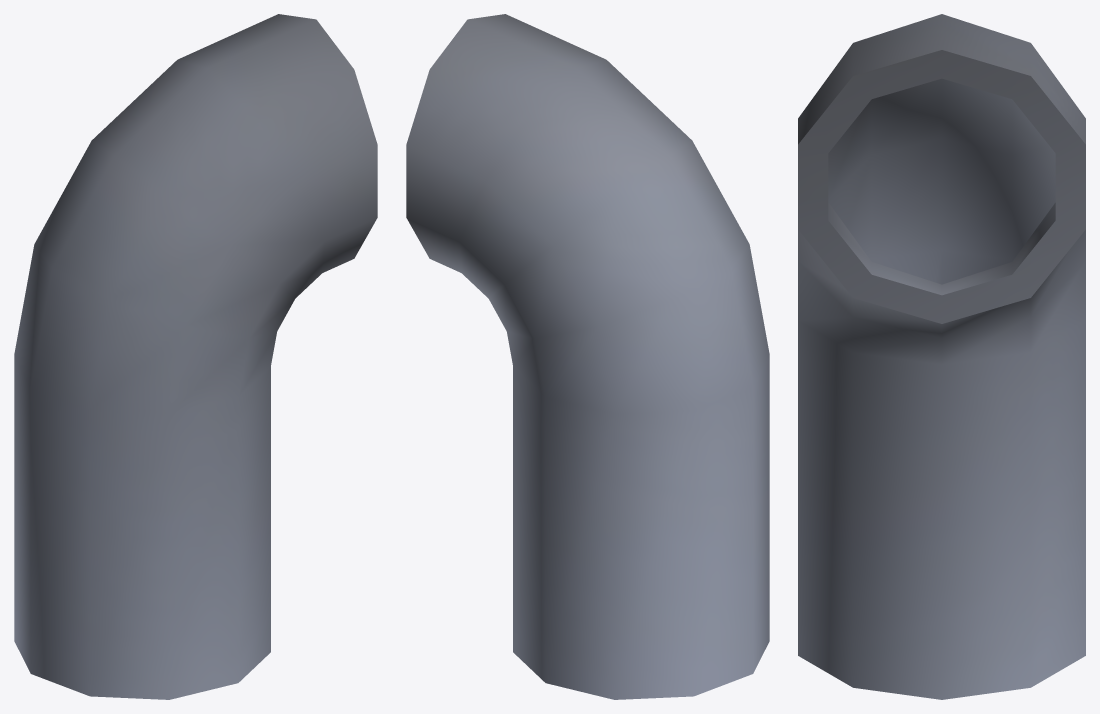
File: POL0110020.fbx
3 renders of one model, left to right at view 1: azimuth 30°, elevation 25°; view 2: azimuth 150°, elevation 25°; view 3: azimuth 270°, elevation 25°, orthographic. The views are drawn at different scales.
Parts seen in each view (by area): view 1: smPOL0110020; view 2: smPOL0110020; view 3: smPOL0110020.
Part boxes in pixels (<box>): smPOL0110020: <box>14,14,377,699</box>; smPOL0110020: <box>406,14,769,699</box>; smPOL0110020: <box>798,14,1085,699</box>.
Size of the model in its own units: 116 by 228 by 86.56.
1 material, 1 textured.
